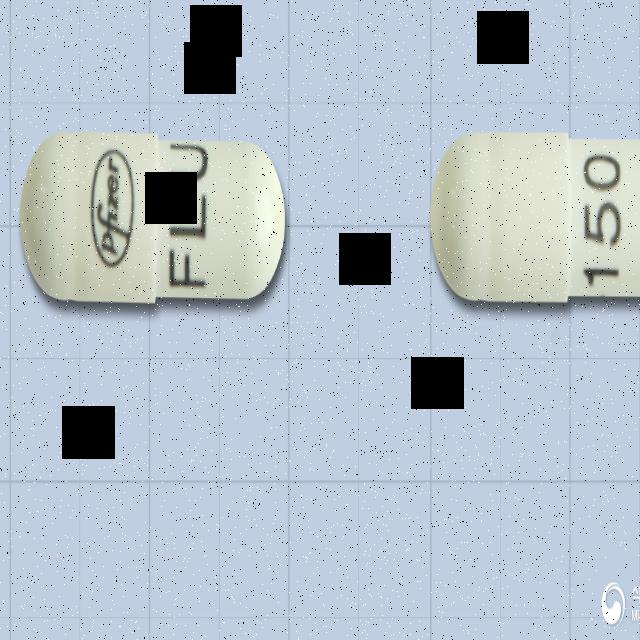Diflucan Cap - 150mg: (20, 132, 286, 304), (430, 130, 640, 302)
